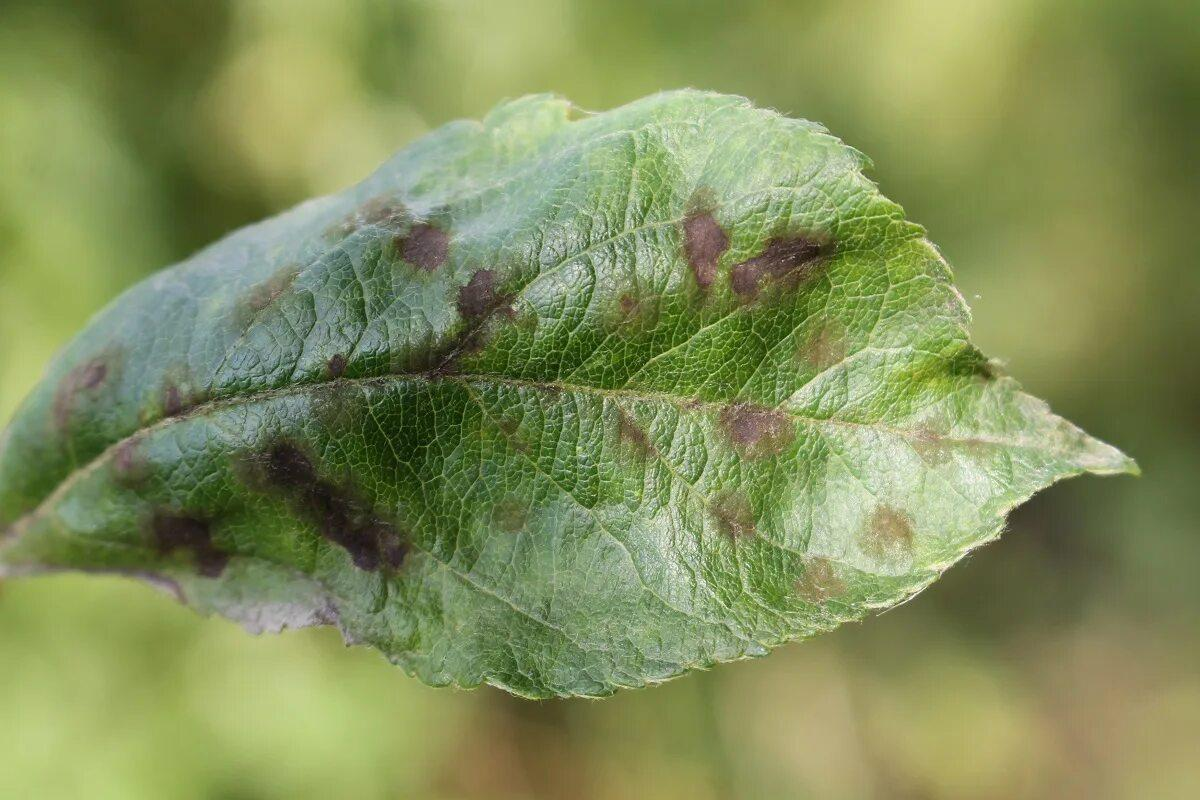late_blight: (265, 441, 410, 572), (414, 269, 514, 377), (728, 234, 833, 300), (151, 510, 229, 575), (681, 207, 730, 298), (718, 402, 782, 454), (398, 223, 448, 272), (618, 291, 639, 318)
